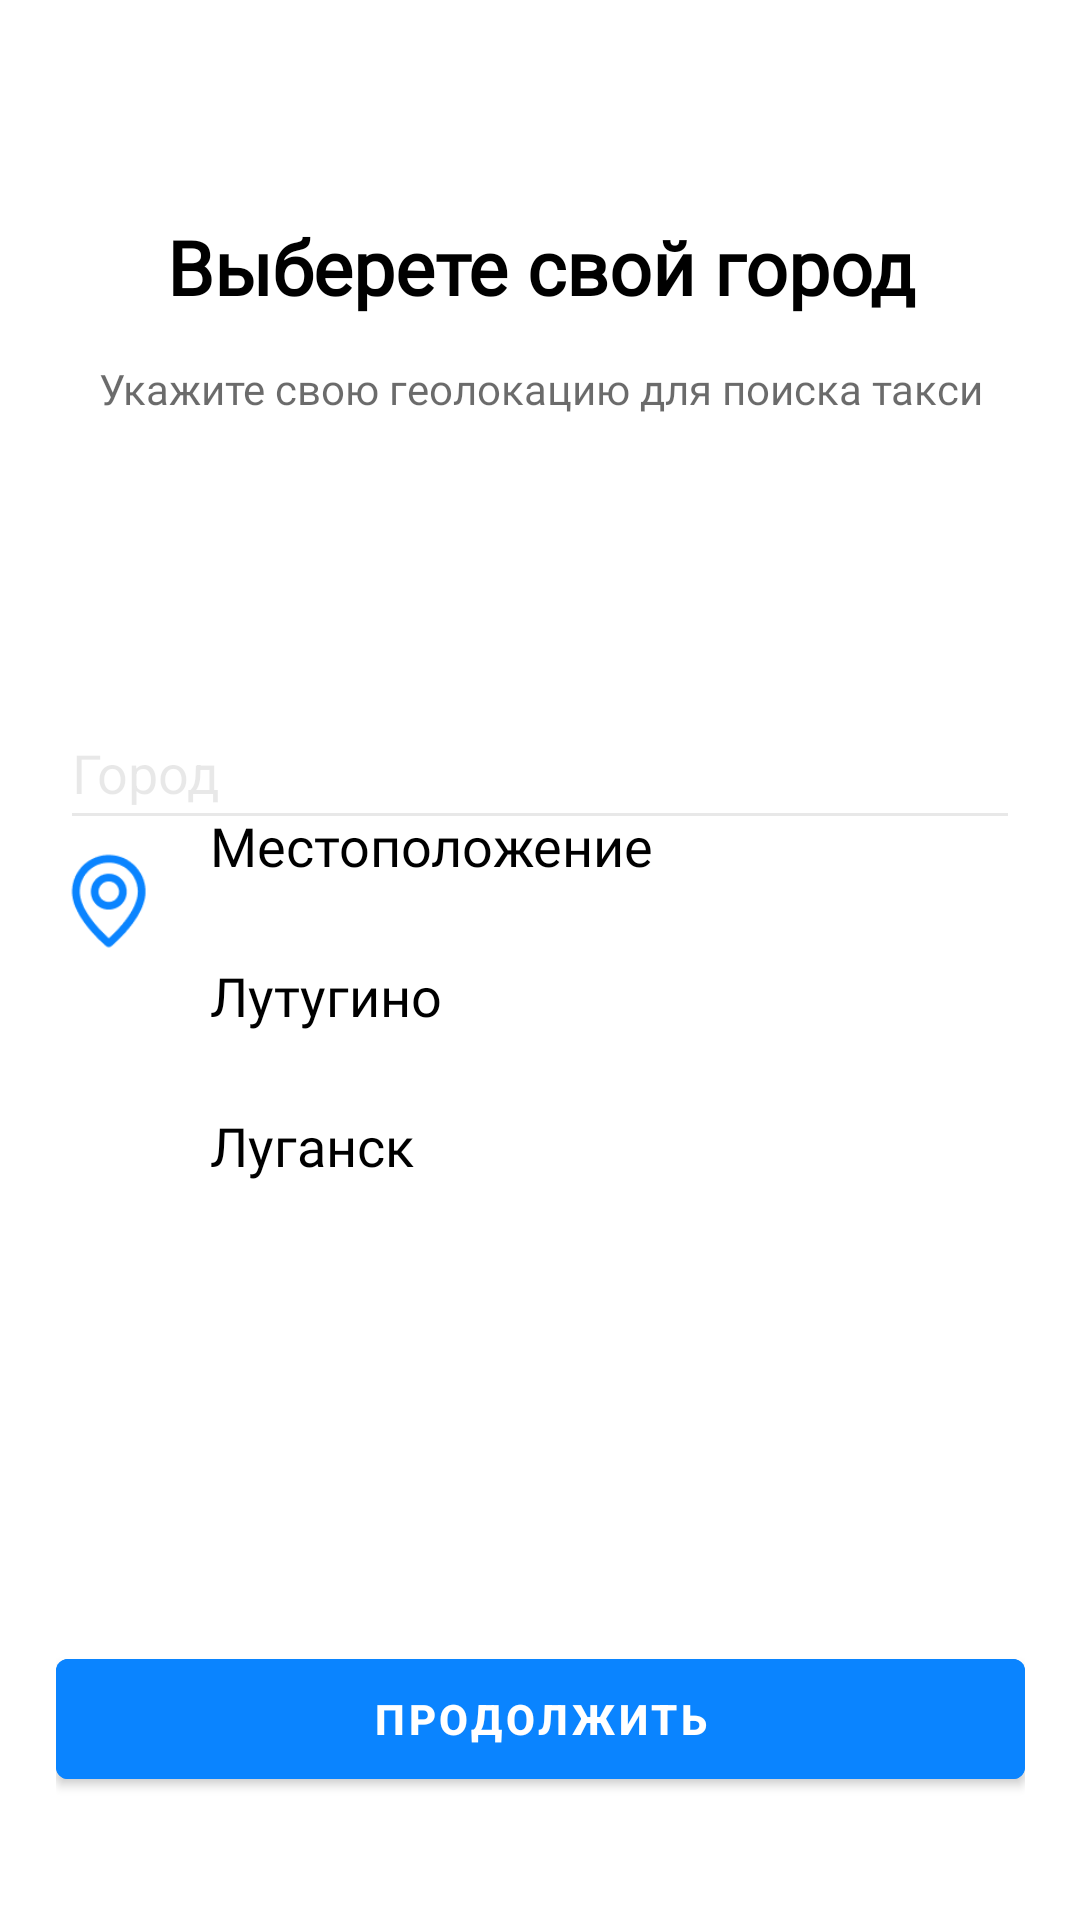

Icon click points for this 1080w x 1920h phone screenshot, format (x,y):
geolocation: (108,901)
